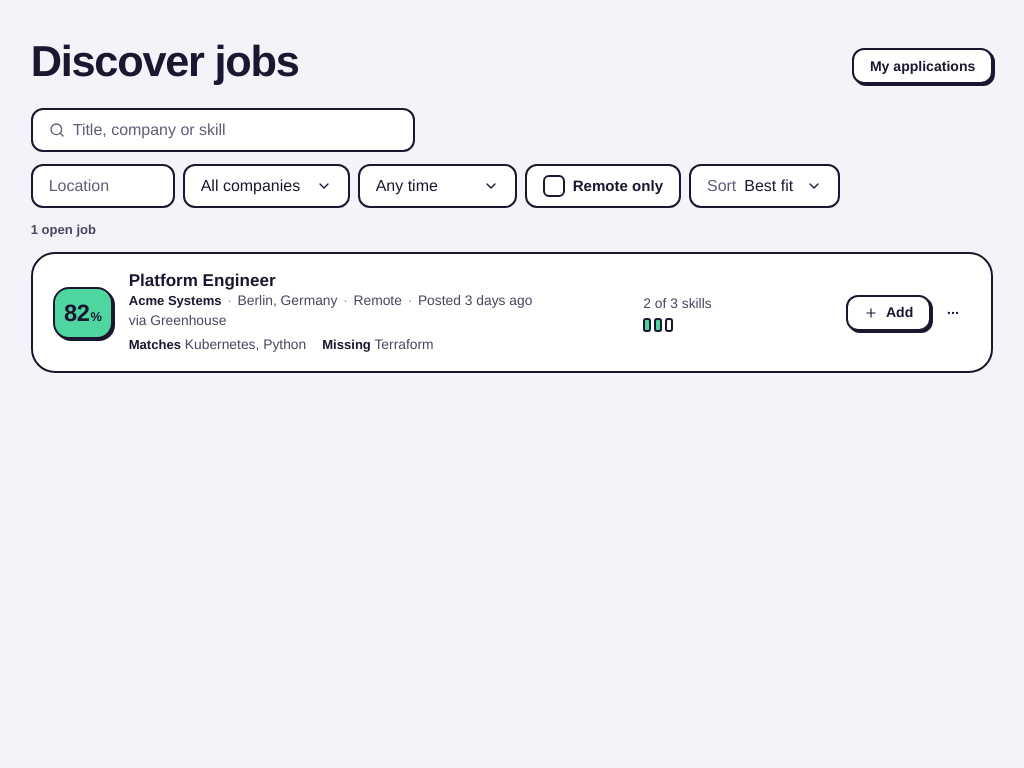
Test: DiscoveryPage › adds from the drawer and keeps the drawer open on the job, now linking to the application
Click the button "Platform Engineer".
click(202, 280)  # box [129,270,627,291]
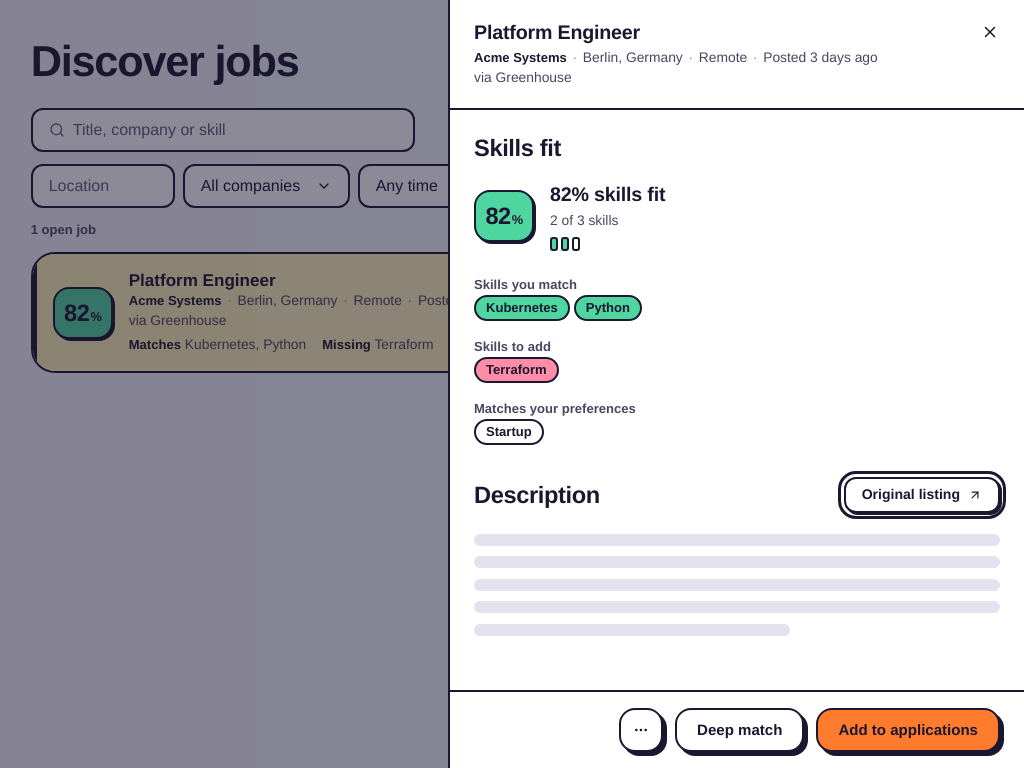
Click the button "Add to applications".
click(908, 730)  # box [816,708,1000,752]
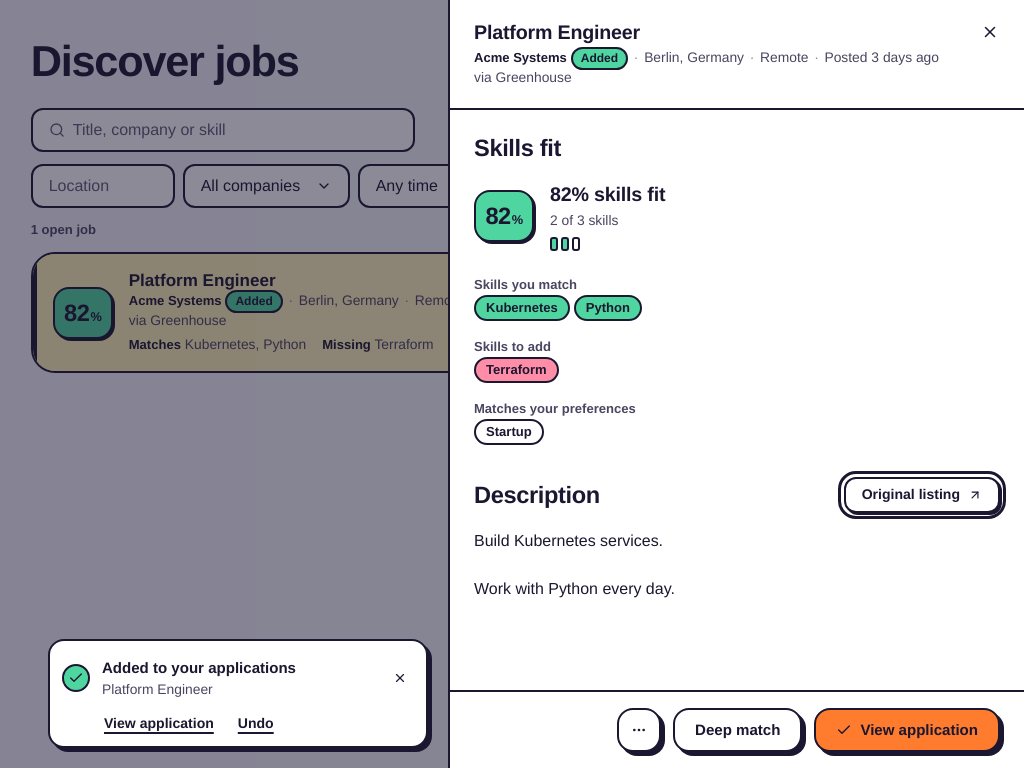
Check: the text "Added to your applications" is shown, box [102,658,296,678]
